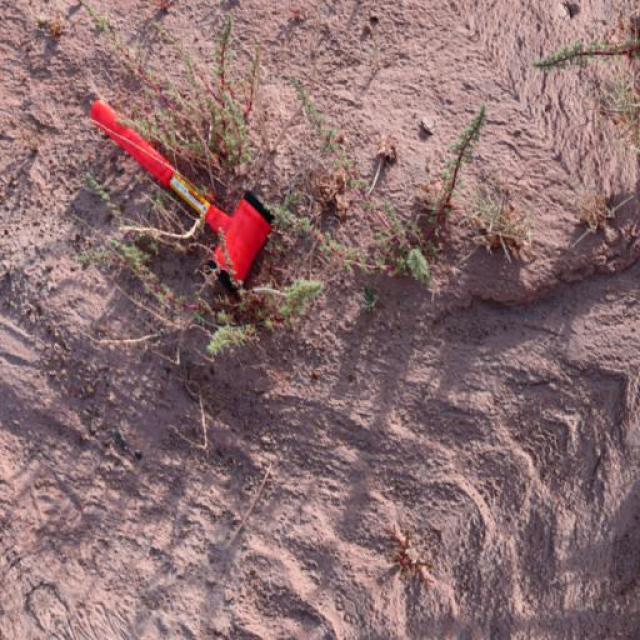mallet: (88, 95, 278, 290)
